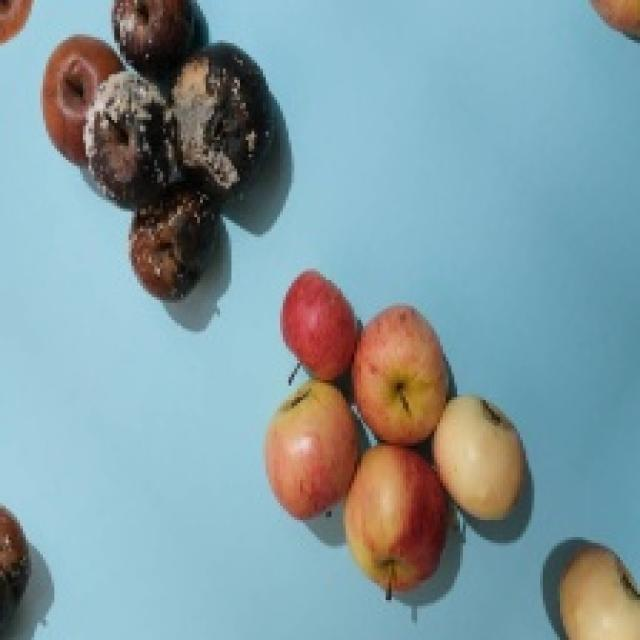100-_ripeness: (358, 308, 440, 443), (355, 456, 435, 586), (266, 399, 349, 516), (283, 269, 353, 385), (563, 549, 640, 640)
rotten_apple: (184, 54, 268, 190), (443, 395, 530, 519), (87, 80, 172, 198), (136, 205, 218, 292), (47, 36, 96, 144), (116, 0, 198, 60)
